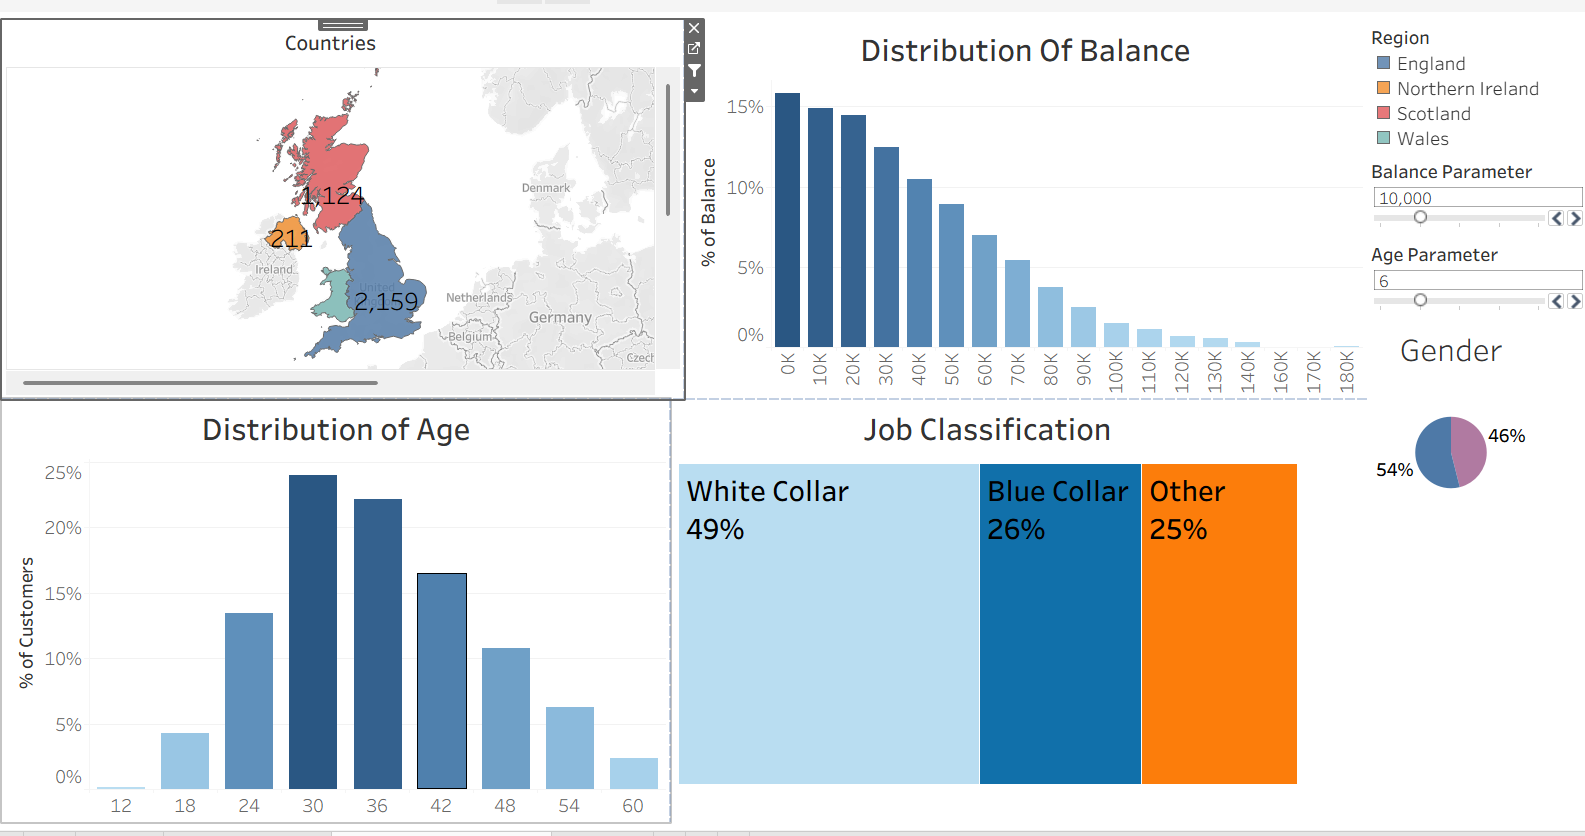

The page's visual inventory and layout, read from the dashboard file:
{"tool":"tableau","page":{"name":"Executive Dashboard","canvas":[1000,1000],"units":"permille","ordinal":0},"visuals":[{"type":"worksheet","title":"Maps","mark":"Multipolygon","box":[5,9.8,425.5,463.3]},{"type":"worksheet","title":"Balance","mark":"Automatic","rows":["S5-UK-Bank-Customers.csv_EB57D596C8474B689A163EF96E7D8CF4"],"cols":["Balance (bin)"],"box":[430.4,9.8,425.5,463.3]},{"type":"legend","title":"Maps","param":"[federated.137rnna0v9yqxo1700aa80ho6apg].[none:Region:nk]","box":[856,9.8,139,163.8]},{"type":"parameter","param":"[Parameters].[Balance (bin) Parameter]","box":[856,173.6,139,101.5]},{"type":"parameter","param":"[Parameters].[Parameter 1]","box":[856,275.1,139,101.5]},{"type":"worksheet","title":"Gender","mark":"Pie","box":[856,376.5,139,316.6]},{"type":"worksheet","title":"Age","mark":"Automatic","rows":["S5-UK-Bank-Customers.csv_EB57D596C8474B689A163EF96E7D8CF4"],"cols":["Age (bin)"],"box":[5,473.1,416.7,517.1]},{"type":"worksheet","title":"Job classification","mark":"Automatic","box":[421.7,473.1,434.3,517.1]}]}

Visuals, with their boxes on the dashboard's canvas, which has no fixed pixel size, in thousandths of its width and height (x1, y1, x2, y2). These are canvas units, not pixel positions in the 1585x836 screenshot, which may show the page scaled, cropped or inside an application window:
"Maps" worksheet (Multipolygon marks): [5, 10, 430, 473]
"Balance" worksheet: [430, 10, 856, 473]
"Maps" legend: [856, 10, 995, 174]
parameter: [856, 174, 995, 275]
parameter: [856, 275, 995, 377]
"Gender" worksheet (Pie marks): [856, 376, 995, 693]
"Age" worksheet: [5, 473, 422, 990]
"Job classification" worksheet: [422, 473, 856, 990]
